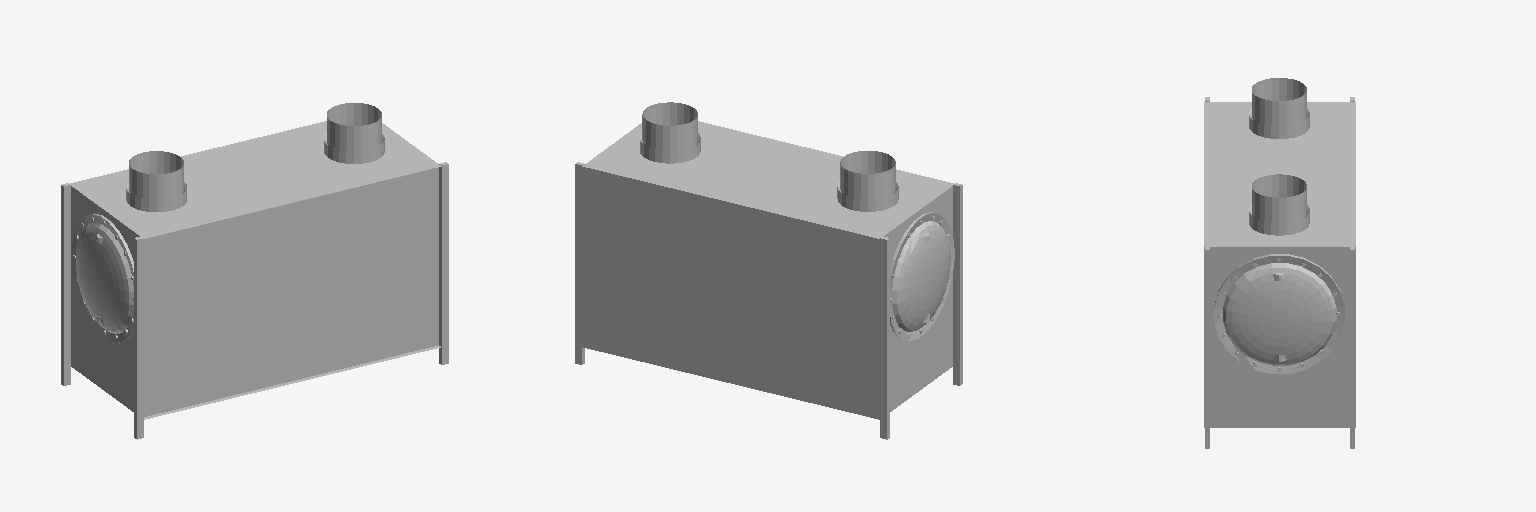
File: Boiler.obj
3 renders of one model, left to right at view 1: azimuth 30°, elevation 25°; view 2: azimuth 150°, elevation 25°; view 3: azimuth 270°, elevation 25°, orthographic.
Visible parts, largest first — view 1: Boiler.obj; view 2: Boiler.obj; view 3: Boiler.obj.
Boxes of the visible parts, x1=… form: Boiler.obj: x1=61, y1=103, x2=448, y2=439; Boiler.obj: x1=575, y1=102, x2=962, y2=439; Boiler.obj: x1=1204, y1=78, x2=1355, y2=448.
Bounding box in the file's own units: 3.19 × 2.23 × 1.3.